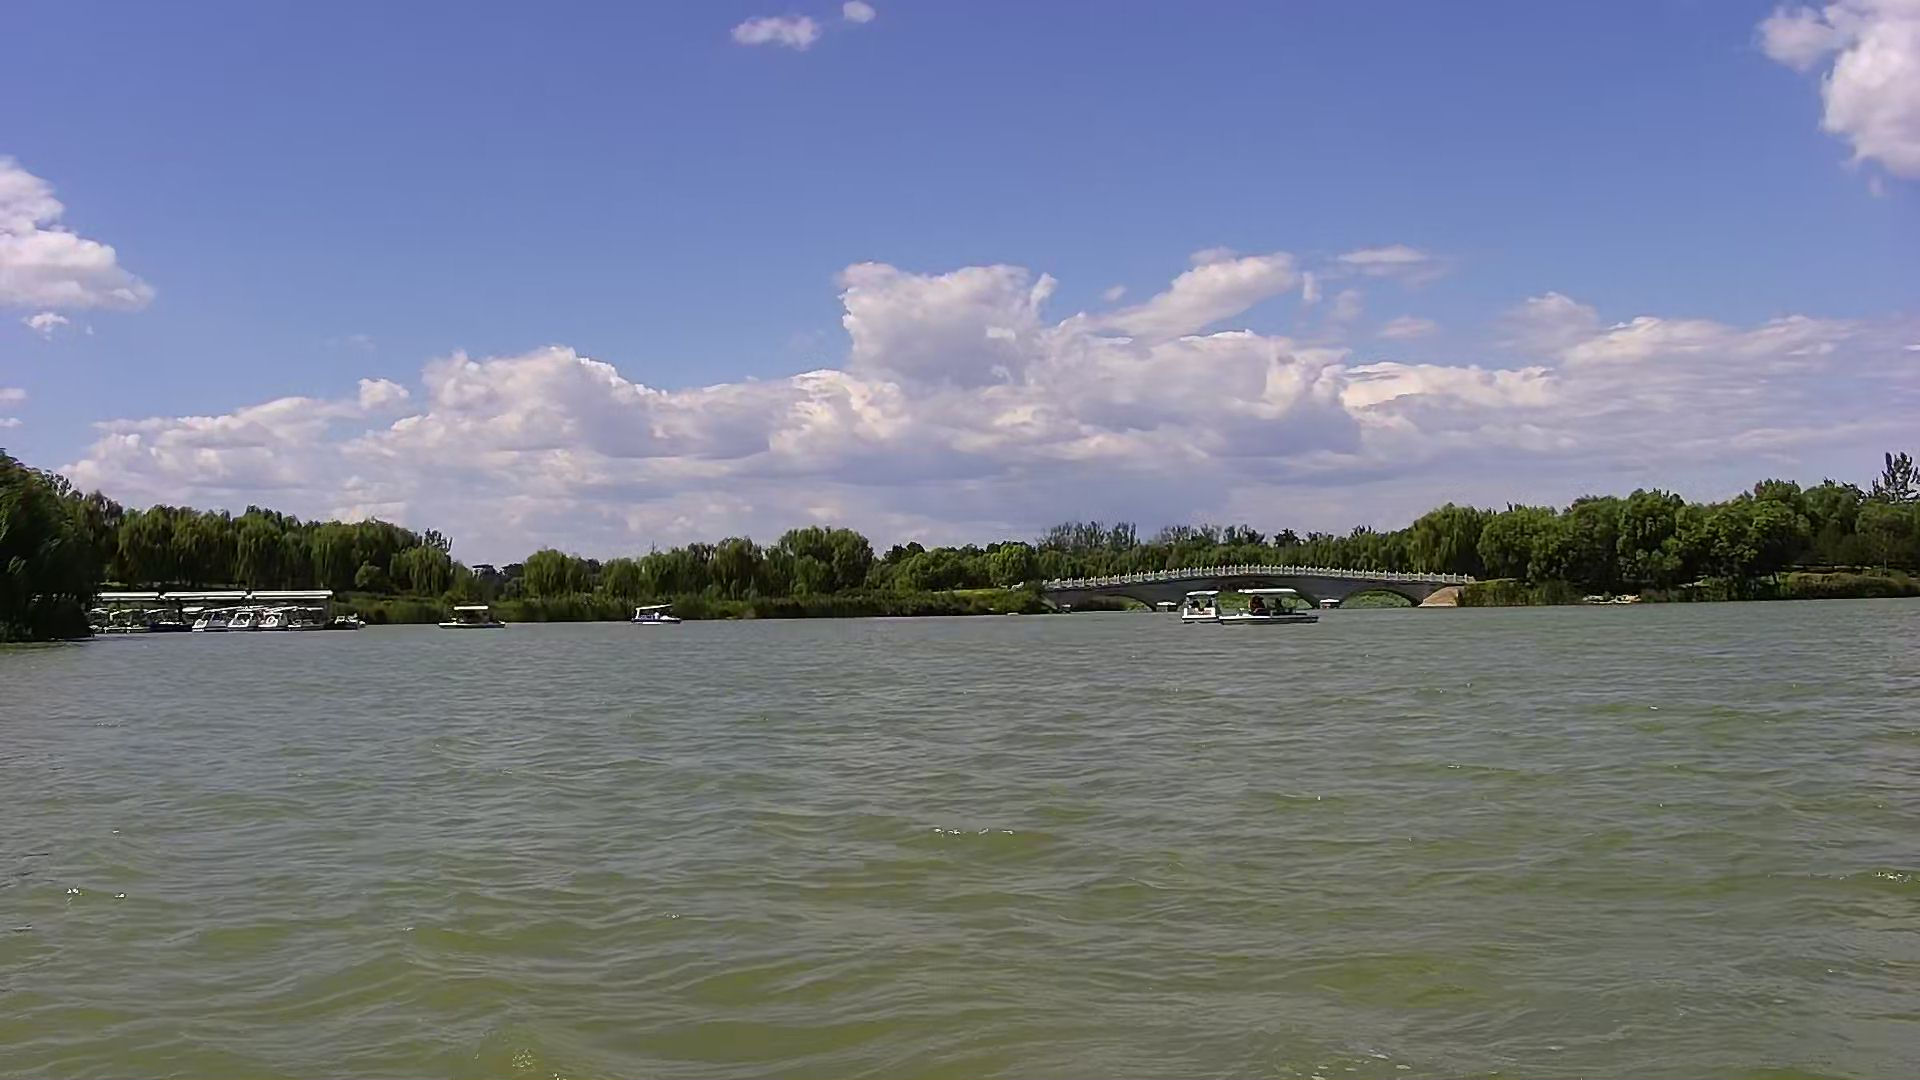boat: (1241, 576, 1317, 642), (1174, 580, 1232, 630), (622, 600, 691, 638), (434, 595, 501, 632)
bridge: (1043, 556, 1491, 612)
